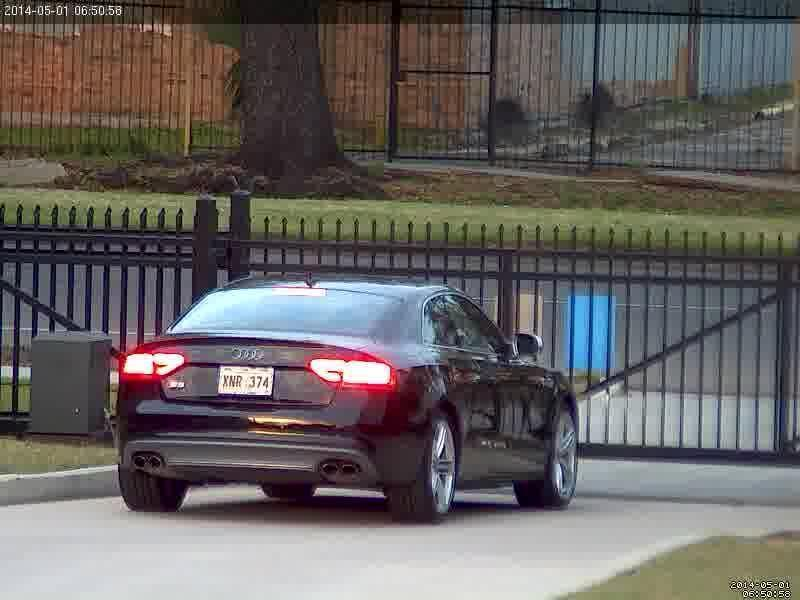placa de veiculo: (210, 362, 287, 399)
